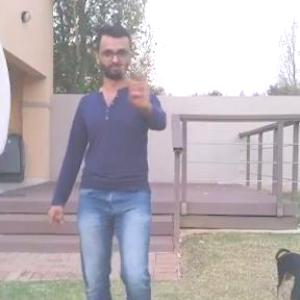takeoff-hand: (118, 66, 162, 113)
